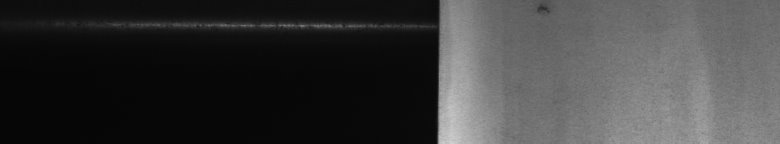fi: (536, 4, 550, 20)
